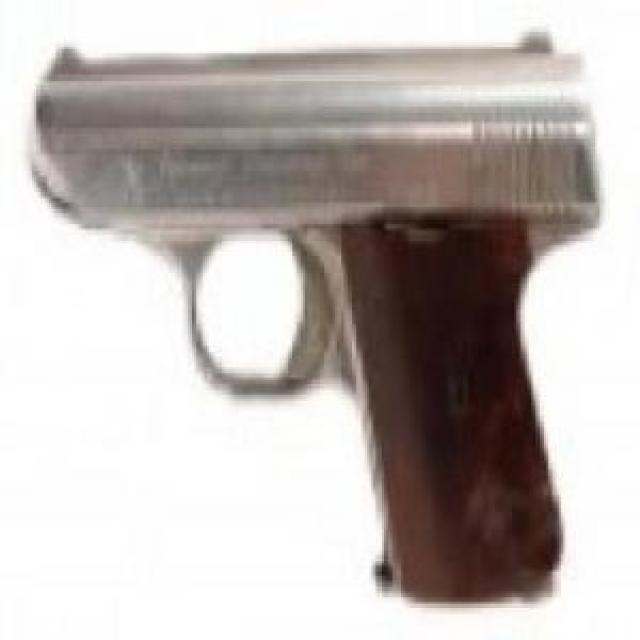pistol: (45, 28, 612, 609)
